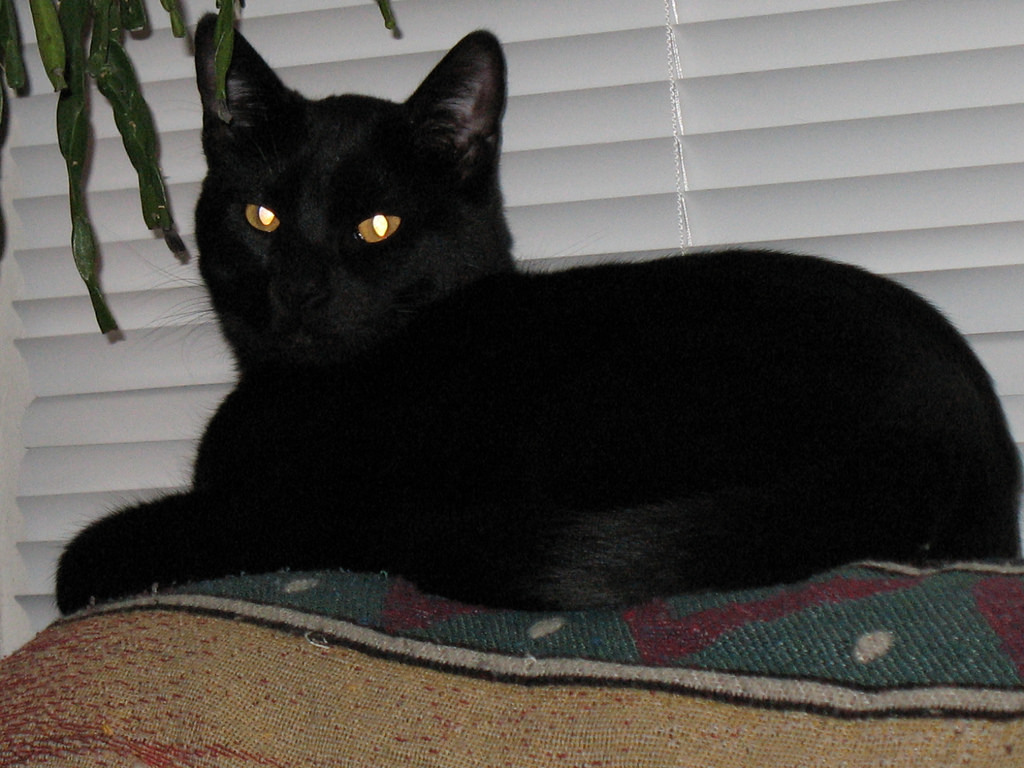Bombay: (15, 1, 1013, 649)
